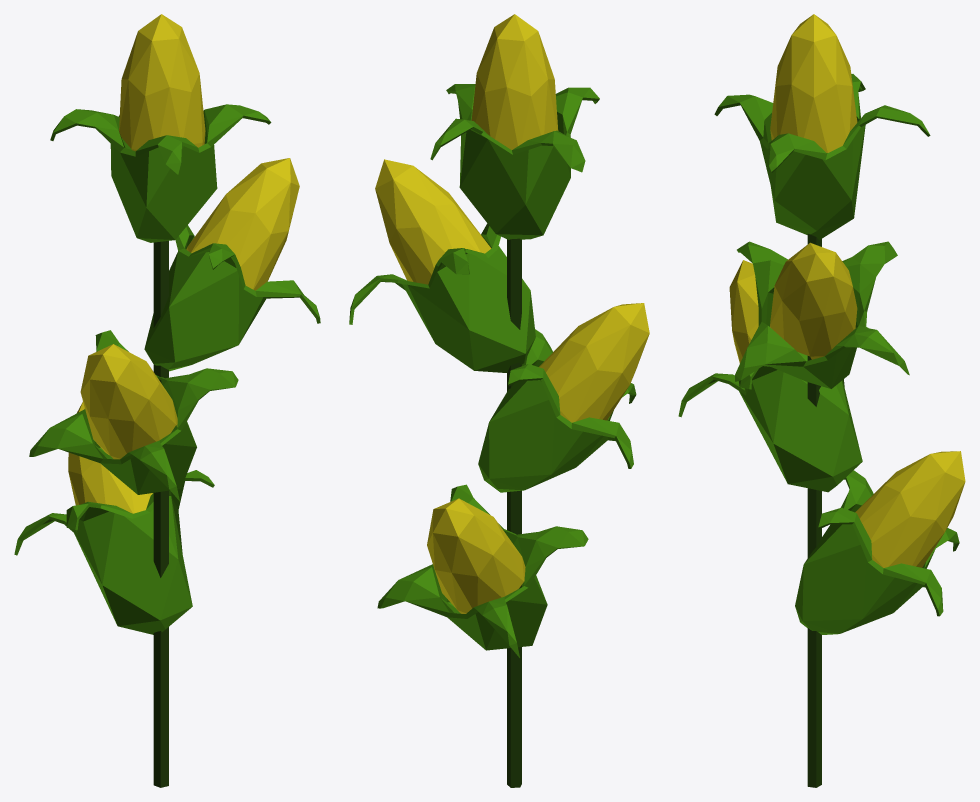
Rendered from corn.obj.
3 renders of one model, left to right at view 1: azimuth 30°, elevation 25°; view 2: azimuth 150°, elevation 25°; view 3: azimuth 270°, elevation 25°, orthographic.
Visible parts, largest first — view 1: Circle.007, Circle.004, Circle.005, Circle, Circle.006, Circle.001, Circle.003, Cylinder, Circle.002; view 2: Circle.004, Circle.005, Circle.006, Circle.007, Circle, Circle.003, Circle.001, Circle.002, Cylinder; view 3: Circle.007, Circle.004, Circle.006, Circle.005, Circle, Circle.002, Circle.001, Cylinder, Circle.003.
Part boxes in pixels (x1,y1,x2,y2): Circle.007: [14, 470, 214, 634]; Circle.004: [50, 104, 271, 242]; Circle.005: [144, 225, 320, 371]; Circle: [119, 14, 205, 151]; Circle.006: [29, 330, 238, 501]; Circle.001: [186, 158, 299, 290]; Circle.003: [80, 344, 177, 459]; Cylinder: [153, 241, 168, 787]; Circle.002: [68, 402, 152, 513]; Circle.004: [430, 84, 599, 239]; Circle.005: [349, 223, 535, 372]; Circle.006: [478, 329, 636, 492]; Circle.007: [377, 484, 588, 657]; Circle: [471, 14, 558, 149]; Circle.003: [539, 303, 649, 422]; Circle.001: [375, 159, 491, 284]; Circle.002: [427, 498, 525, 613]; Cylinder: [507, 238, 521, 787]; Circle.007: [795, 470, 959, 634]; Circle.004: [714, 74, 930, 240]; Circle.006: [678, 327, 868, 492]; Circle.005: [735, 241, 909, 388]; Circle: [770, 14, 857, 152]; Circle.002: [855, 451, 965, 567]; Circle.001: [770, 242, 857, 359]; Cylinder: [807, 234, 821, 787]; Circle.003: [729, 260, 758, 363].
Bounding box in the file's own units: 0.8779 × 2.5 × 0.8427.
